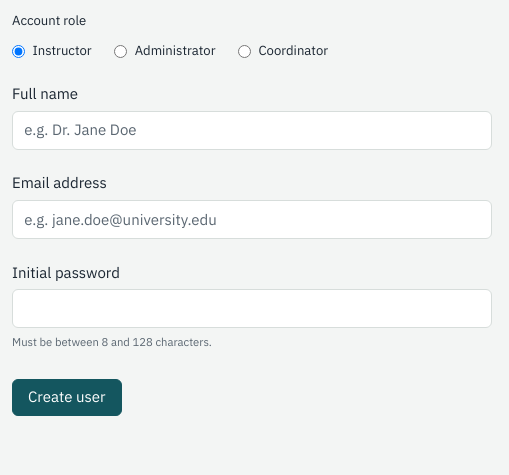
Test case: AdminUserForm Component › validates required fields, invalid email, and short password
Submit empty form
Click the button "Create user" at (67, 398), box x1=12 y1=379 x2=122 y2=416
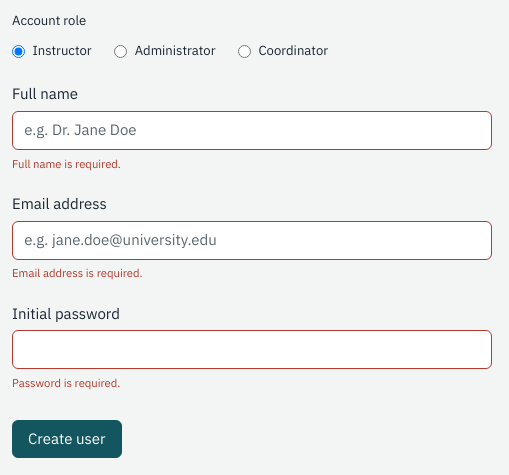
Expected: the text "Full name is required." is shown, x1=12 y1=156 x2=121 y2=170
Invalid email format
Type "Dr. John Watson" into the field labelled "Full name" at (252, 130), box x1=12 y1=111 x2=492 y2=150
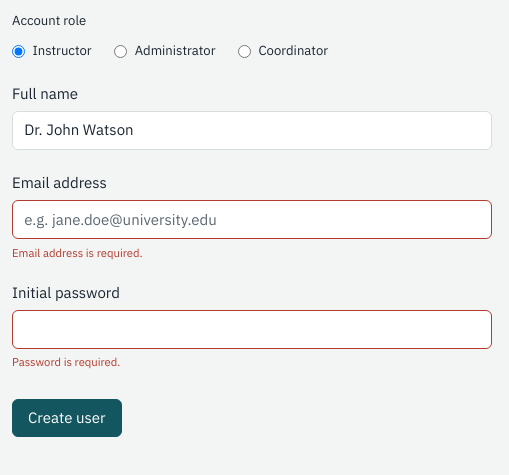
Type "invalid-email" into the field labelled "Email address" at (252, 220), box x1=12 y1=200 x2=492 y2=239
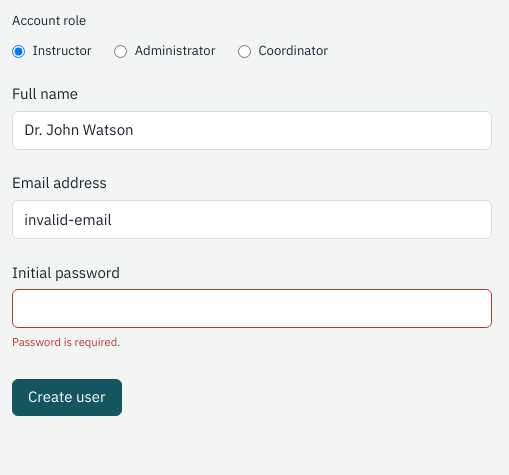
Type "short" into the password field labelled "Initial password" at (252, 309), box x1=12 y1=289 x2=492 y2=328
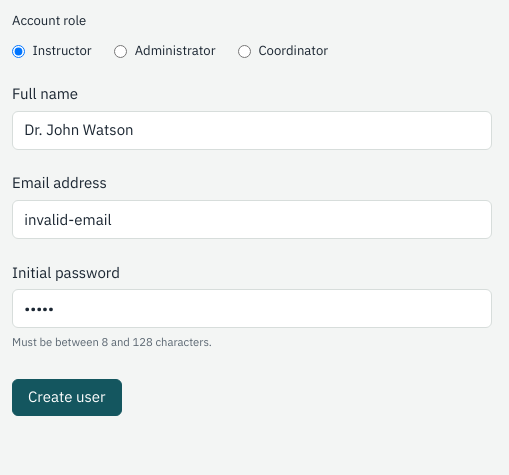
Click the button "Create user" at (67, 398), box x1=12 y1=379 x2=122 y2=416
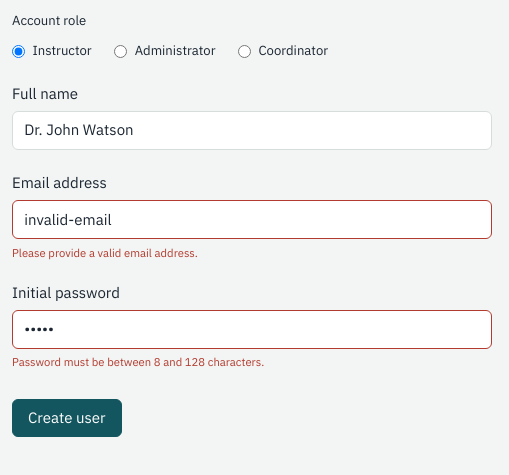
Expected: the text "Please provide a valid email address." is shown, x1=12 y1=245 x2=198 y2=260
Expected: the text "Password must be between 8 and 128 characters." is shown, x1=12 y1=354 x2=264 y2=369
